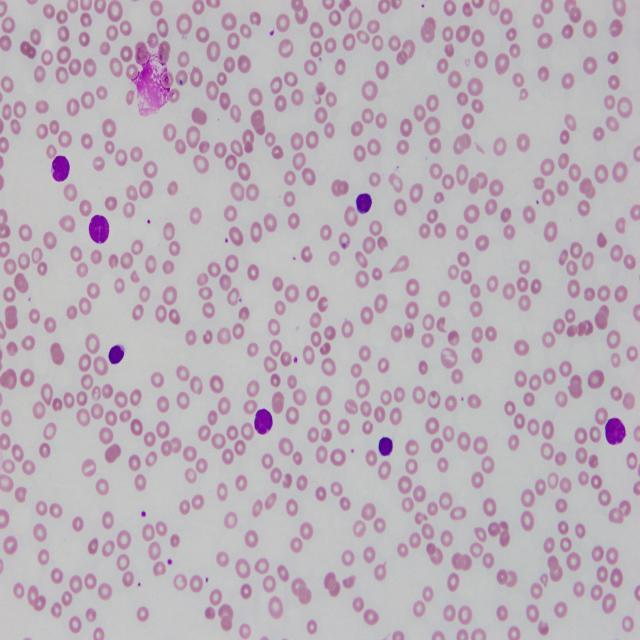cell: (605, 418, 626, 445), (89, 215, 109, 243), (51, 155, 70, 182), (254, 408, 272, 435), (109, 345, 125, 365), (356, 193, 371, 213), (379, 437, 392, 457)
